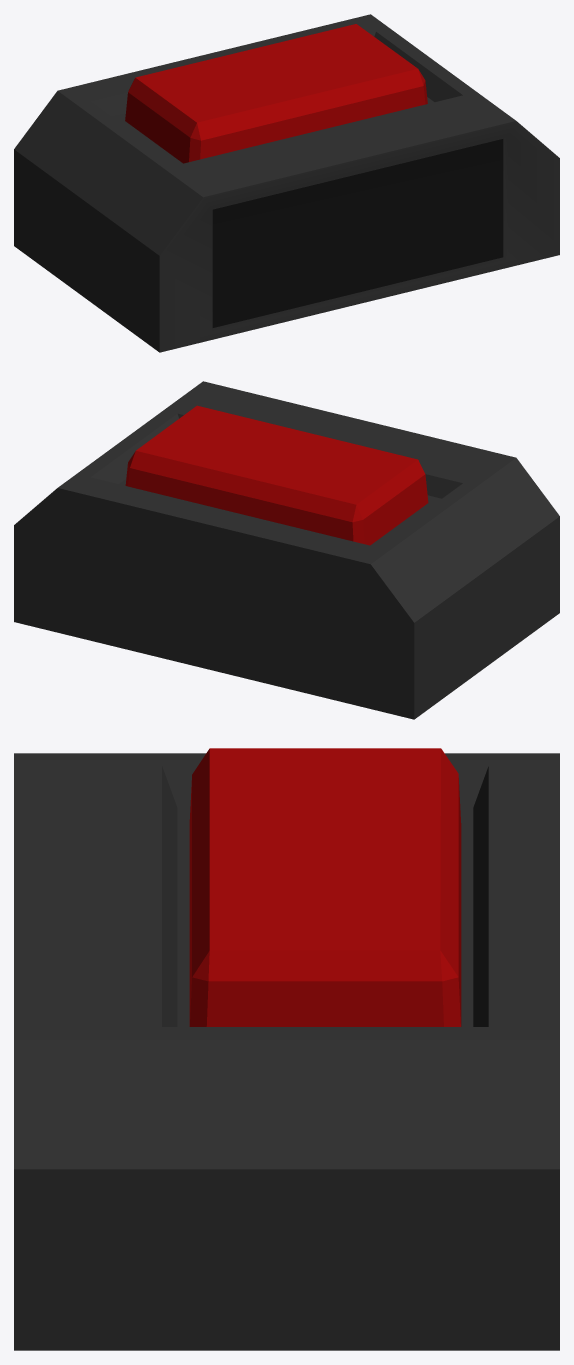
Rendered from Alarm_v01.fbx.
The picture shows the model from 3 angles, top to bottom: view 1: azimuth 30°, elevation 25°; view 2: azimuth 150°, elevation 25°; view 3: azimuth 270°, elevation 25°; orthographic projection. The views are drawn at different scales.
Visible parts, largest first — view 1: Alarm_Body_geo, Alarm_Button_geo; view 2: Alarm_Body_geo, Alarm_Button_geo; view 3: Alarm_Body_geo, Alarm_Button_geo.
Boxes of the visible parts, x1,y1,x2,y2 form: Alarm_Body_geo: (14, 14, 559, 352); Alarm_Button_geo: (125, 24, 427, 163); Alarm_Body_geo: (14, 381, 559, 719); Alarm_Button_geo: (125, 405, 428, 545); Alarm_Body_geo: (14, 753, 559, 1350); Alarm_Button_geo: (189, 748, 461, 1026).
Size of the model in its own units: 0.377 by 0.1529 by 0.2377.
